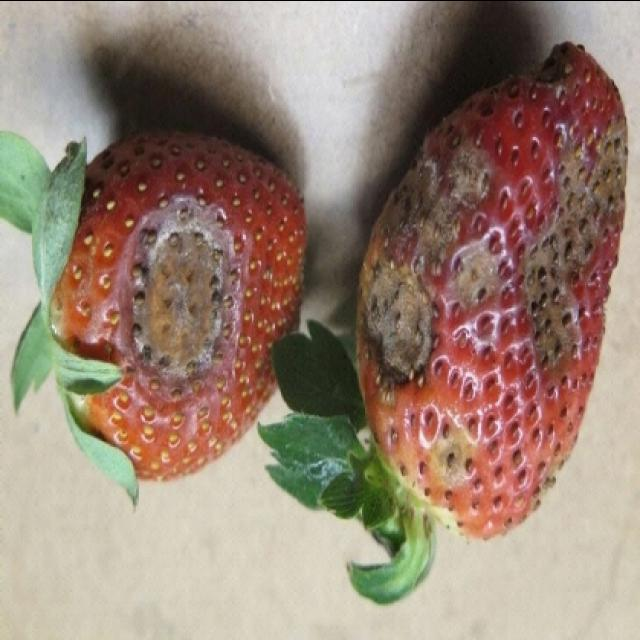Anthracnose Fruit Rot: (142, 198, 224, 385), (532, 152, 592, 362), (363, 275, 428, 365), (589, 127, 627, 229), (459, 234, 515, 298), (398, 167, 436, 238), (445, 153, 487, 195)
